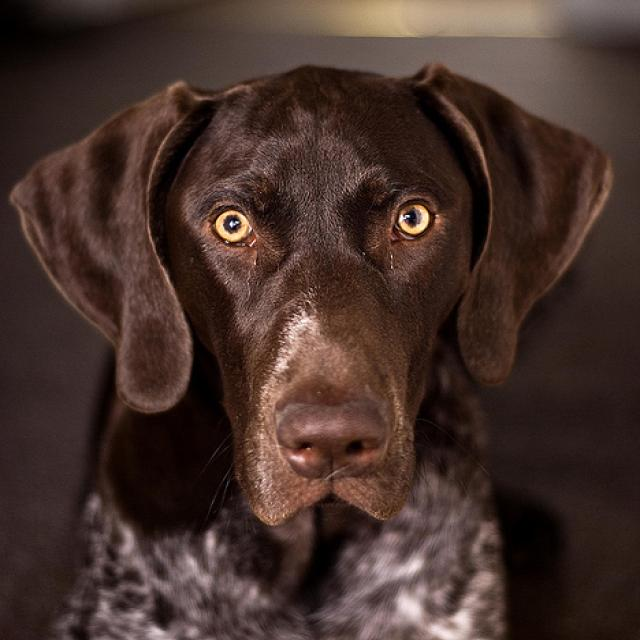dog-german_shorthaired: (1, 40, 626, 637)
